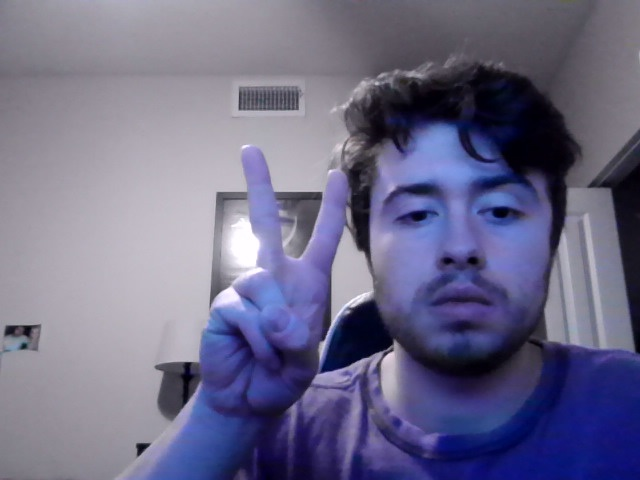v: (197, 143, 349, 442)
